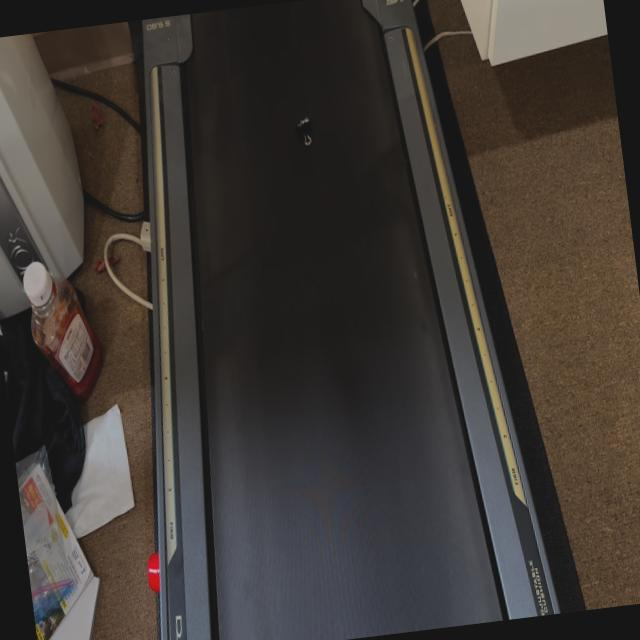Trash: (294, 110, 318, 151)
